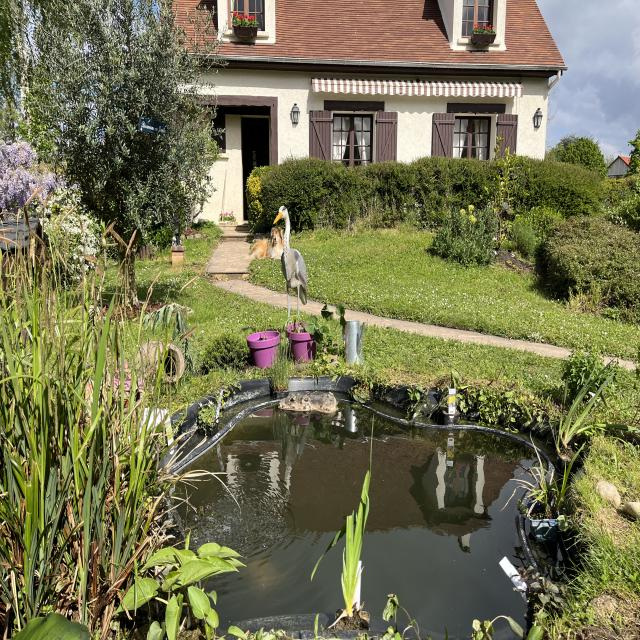Dog: (240, 222, 284, 265)
Heron: (272, 199, 315, 344)
